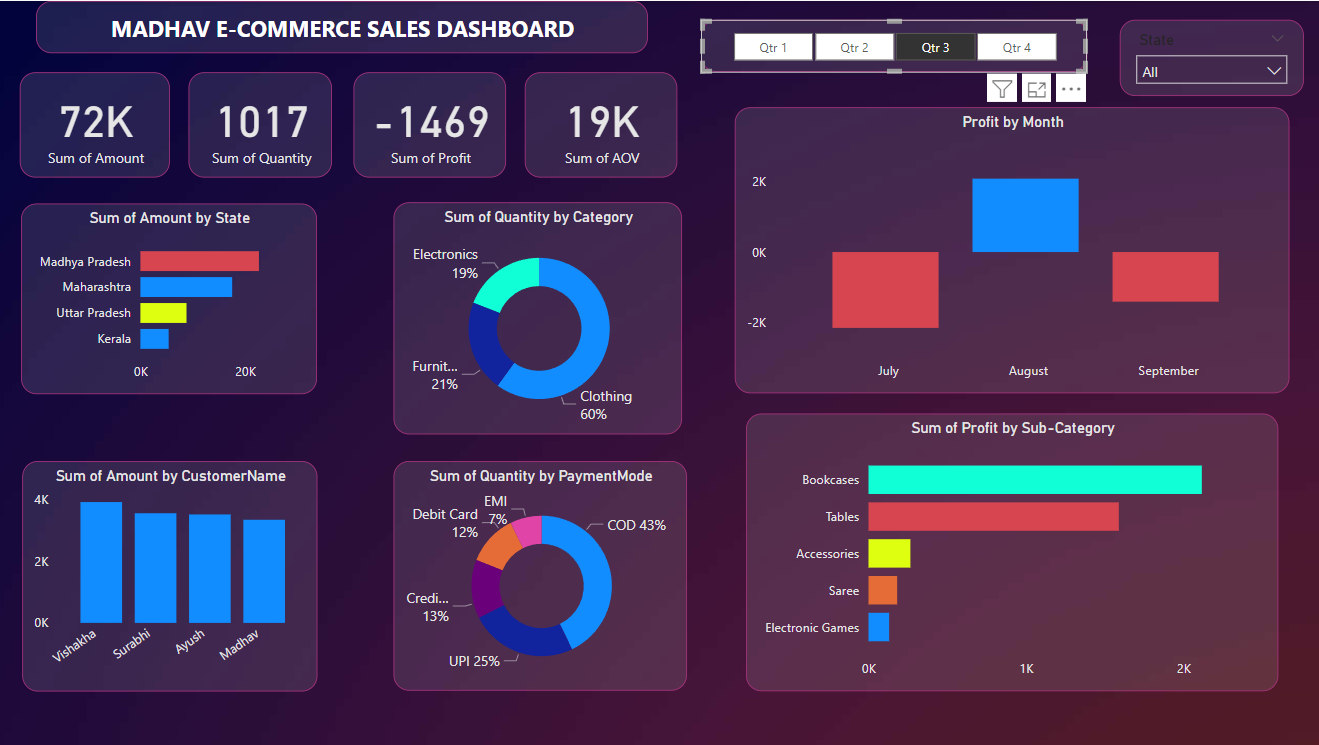

Layout of this report page (visuals, bound fields, positions):
{"tool":"powerbi","page":{"name":"Page 1","canvas":[1280,720],"ordinal":0},"visuals":[{"type":"textbox","box":[38.4,0,590.1,50.8],"z":0},{"type":"columnChart","title":" Profit by Month","fields":{"Y":["Details.Profit"],"Category":["Orders.Order Date.Variation.Date Hierarchy.Month"]},"box":[712.8,102.5,535.5,276.2],"z":1000},{"type":"barChart","fields":{"Category":["Details.Sub-Category"],"Y":["Details.Profit"]},"box":[723.6,398,513.8,267.7],"z":2000},{"type":"donutChart","fields":{"Category":["Details.Category"],"Y":["Details.Quantity"]},"box":[383.5,194.2,278.6,224.3],"z":3000},{"type":"donutChart","fields":{"Y":["Details.Quantity"],"Category":["Details.PaymentMode"]},"box":[383.5,443.8,283.4,221.9],"z":4000},{"type":"card","fields":{"Values":["Details.Amount"]},"box":[22.9,68.7,144.7,101.3],"z":5000},{"type":"card","fields":{"Values":["Details.Quantity"]},"box":[185.7,68.7,138.7,101.3],"z":6000},{"type":"card","fields":{"Values":["Details.Profit"]},"box":[344.9,68.7,147.1,101.3],"z":7000},{"type":"card","fields":{"Values":["Details.AOV"]},"box":[510.2,68.7,147.1,101.3],"z":8000},{"type":"barChart","fields":{"Category":["Orders.State"],"Y":["Details.Amount"]},"box":[24.7,194.9,285.4,183.9],"z":9000},{"type":"columnChart","fields":{"Category":["Orders.CustomerName"],"Y":["Details.Amount"]},"box":[25,444,285,222],"z":10000},{"type":"slicer","fields":{"Values":["Orders.Order Date.Variation.Date Hierarchy.Quarter"]},"box":[680.2,18.1,372.7,50.7],"z":10001},{"type":"slicer","fields":{"Values":["Orders.State"]},"box":[1084.2,18.1,177.3,73.6],"z":10002}]}

Visuals, with their boxes in screenshot pixels (x1, y1, x2, y2), scaled from the page's 1280x720 canvas onto the 1319x745 screenshot:
textbox: rect(40, 0, 648, 53)
" Profit by Month" columnChart: rect(735, 106, 1286, 392)
barChart - Details.Sub-Category x Details.Profit: rect(746, 412, 1275, 689)
donutChart - Details.Category x Details.Quantity: rect(395, 201, 682, 433)
donutChart - Details.Quantity x Details.PaymentMode: rect(395, 459, 687, 689)
card - Details.Amount: rect(24, 71, 173, 176)
card - Details.Quantity: rect(191, 71, 334, 176)
card - Details.Profit: rect(355, 71, 507, 176)
card - Details.AOV: rect(526, 71, 677, 176)
barChart - Orders.State x Details.Amount: rect(25, 202, 320, 392)
columnChart - Orders.CustomerName x Details.Amount: rect(26, 459, 319, 689)
slicer - Orders.Order Date.Variation.Date Hierarchy.Quarter: rect(701, 19, 1085, 71)
slicer - Orders.State: rect(1117, 19, 1300, 95)
